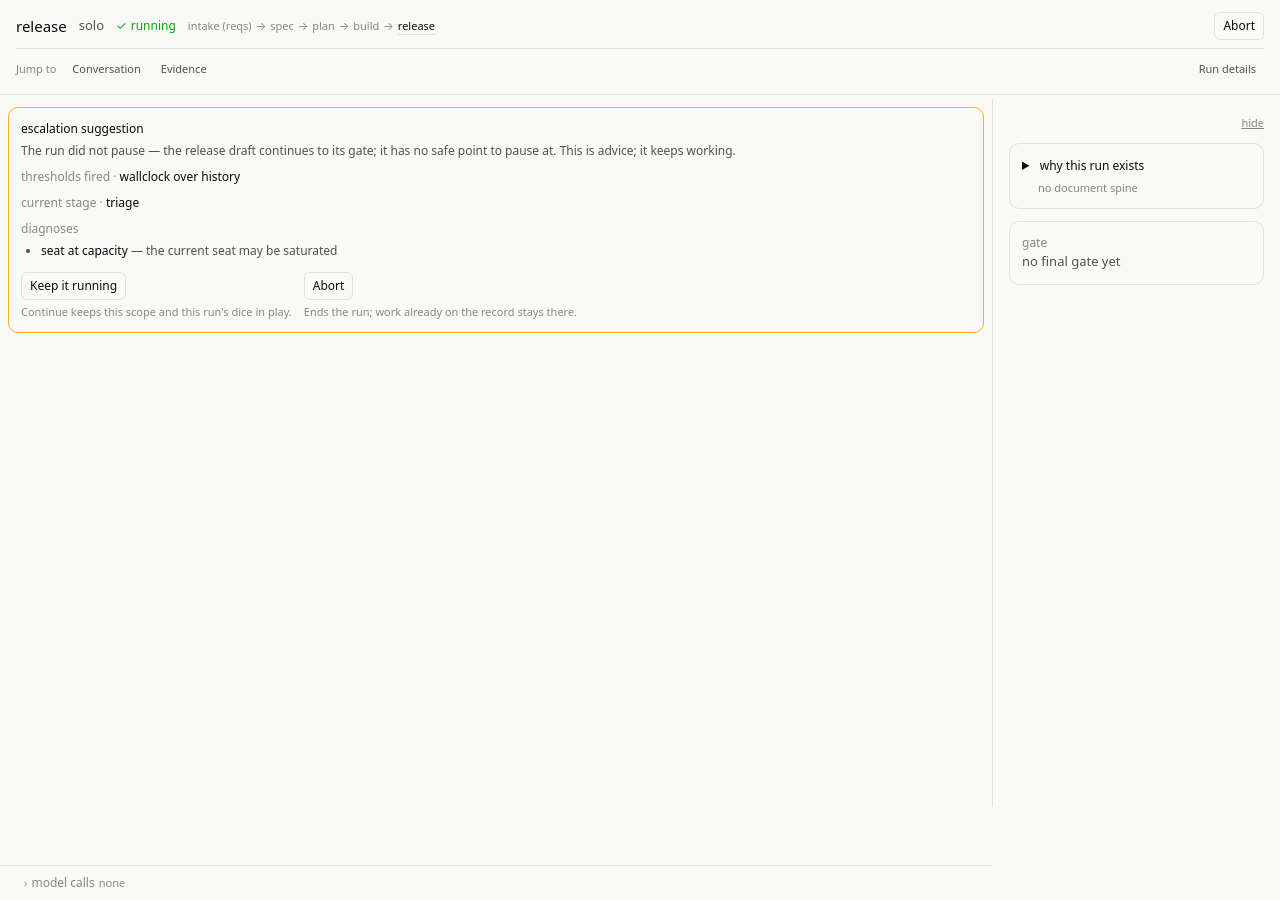
escalation card on a task-less run › does not resume a run that never paused when the person keeps it running
Check: the element with test id "escalation-suggestion" shows "did not pause", box [21,142,736,158]
Click the button with test id "escalation-continue". click: [74, 286]
box: [21,272,126,300]
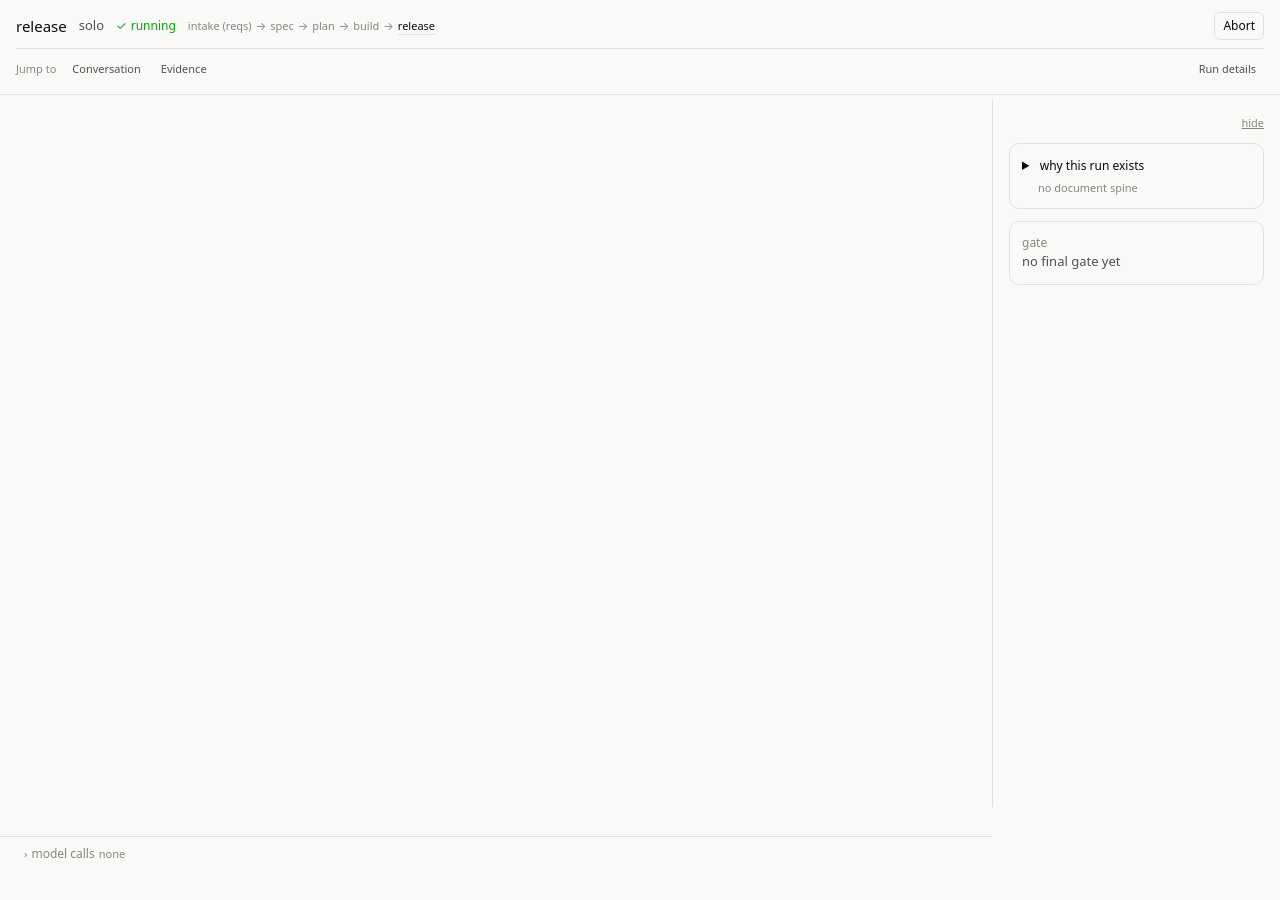
Check: the element with test id "escalation-suggestion" is gone
